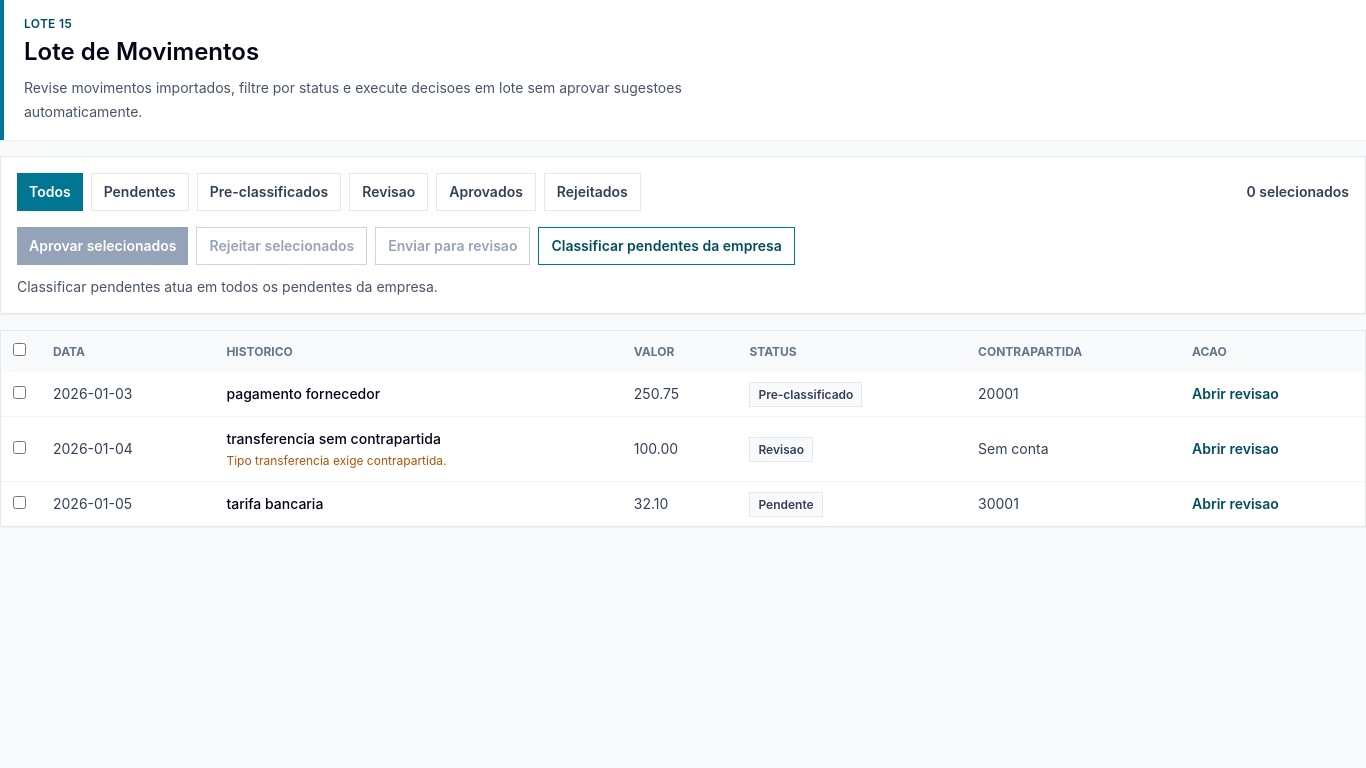
Scenario: LoteMovimentosPage › lista movimentos do lote e filtra por status
Expected: the heading "Lote de Movimentos" is shown, [24, 37, 259, 66]
Expected: the text "pagamento fornecedor" is shown, [226, 385, 380, 402]
Click the button "Revisao".
click(389, 192)  # box [349, 173, 428, 211]
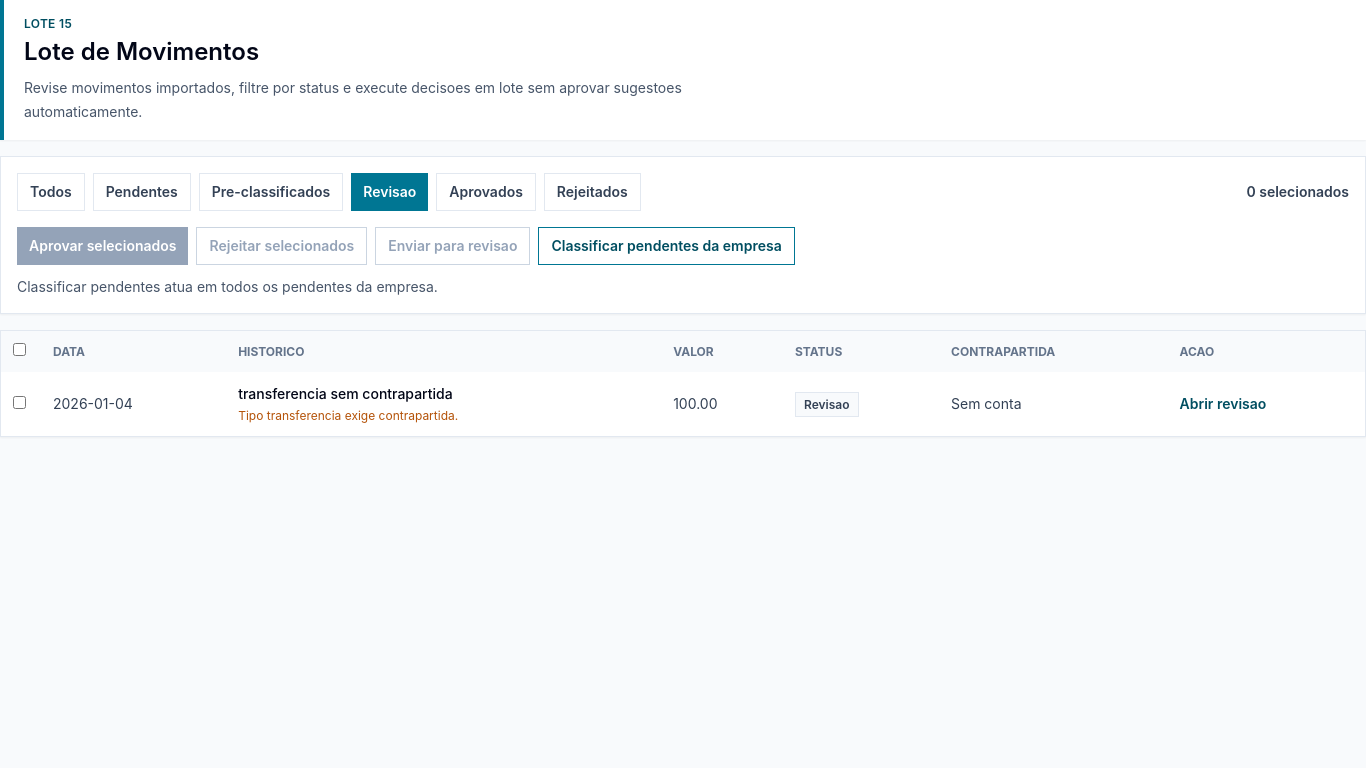
Expected: the text "transferencia sem contrapartida" is shown, [238, 385, 453, 402]
Expected: the text "pagamento fornecedor" is gone
